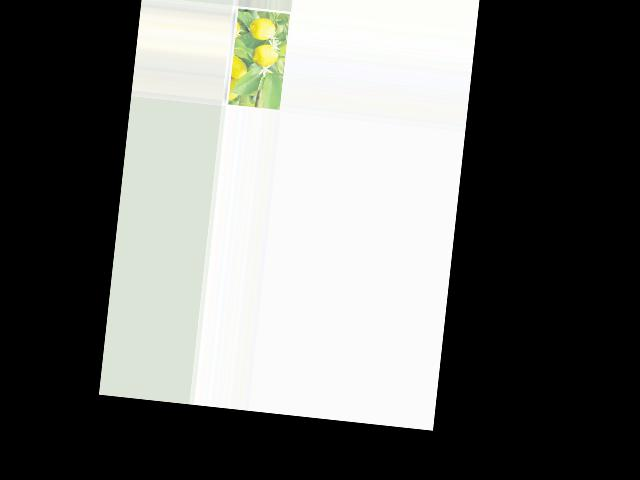lemon: (251, 43, 281, 67)
